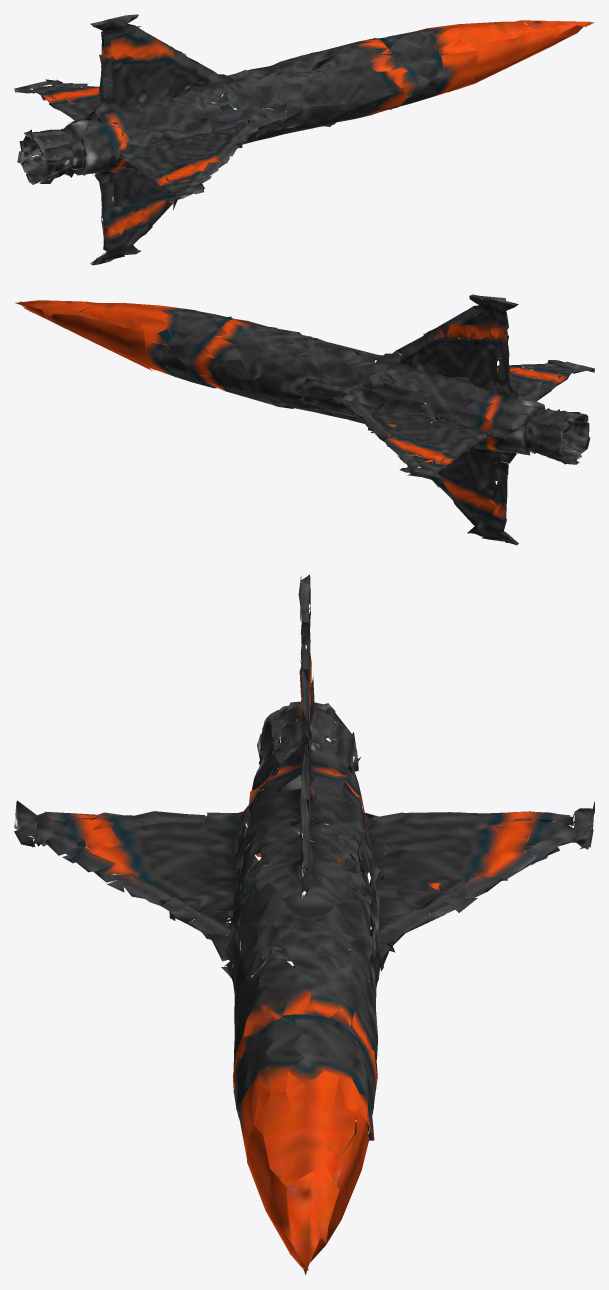
Rendered from fh_battle_e_kamikaze.glb.
3 views of the same model, one above another, from view 1: azimuth 30°, elevation 25°; view 2: azimuth 150°, elevation 25°; view 3: azimuth 270°, elevation 25° (orthographic). The views are drawn at different scales.
Parts seen in each view (by area): view 1: GLTF; view 2: GLTF; view 3: GLTF.
Boxes of the visible parts, left/top/right/bottom form: GLTF: left=14, top=14, right=594, bottom=265; GLTF: left=15, top=294, right=594, bottom=545; GLTF: left=14, top=574, right=594, bottom=1274.
Size of the model in its own units: 1 by 0.4123 by 0.4658.
1 material, 1 textured.
